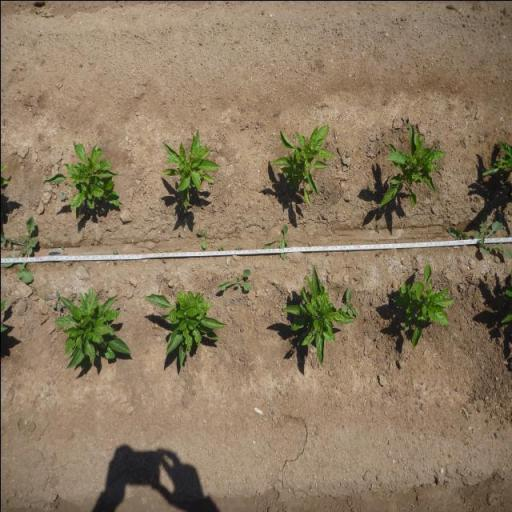plant: (142, 290, 227, 369), (282, 264, 346, 364), (43, 137, 121, 219), (378, 120, 446, 210), (60, 285, 131, 371), (388, 260, 455, 350), (268, 120, 334, 207), (158, 127, 221, 211), (481, 139, 512, 177)
weed: (445, 215, 512, 259), (0, 214, 38, 283), (262, 224, 290, 261), (216, 268, 251, 292), (340, 286, 360, 316), (195, 227, 208, 250), (51, 290, 61, 310), (59, 191, 67, 200), (375, 224, 381, 232), (217, 244, 225, 250), (375, 251, 382, 257), (234, 246, 242, 250), (112, 248, 117, 254), (60, 243, 64, 250), (90, 240, 94, 244)
